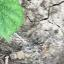Morning glory: (0, 0, 62, 40)
